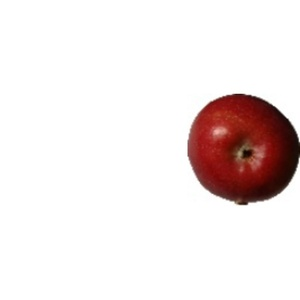maçã braeburn: (185, 91, 300, 201)
